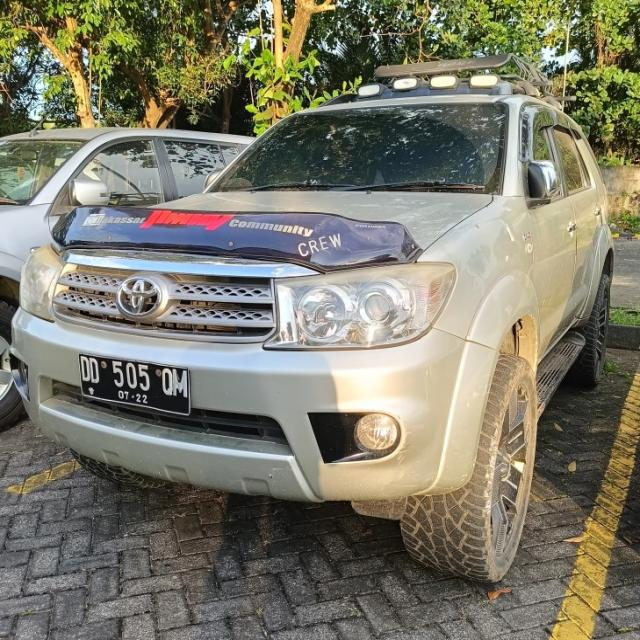plates: (76, 352, 195, 421)
